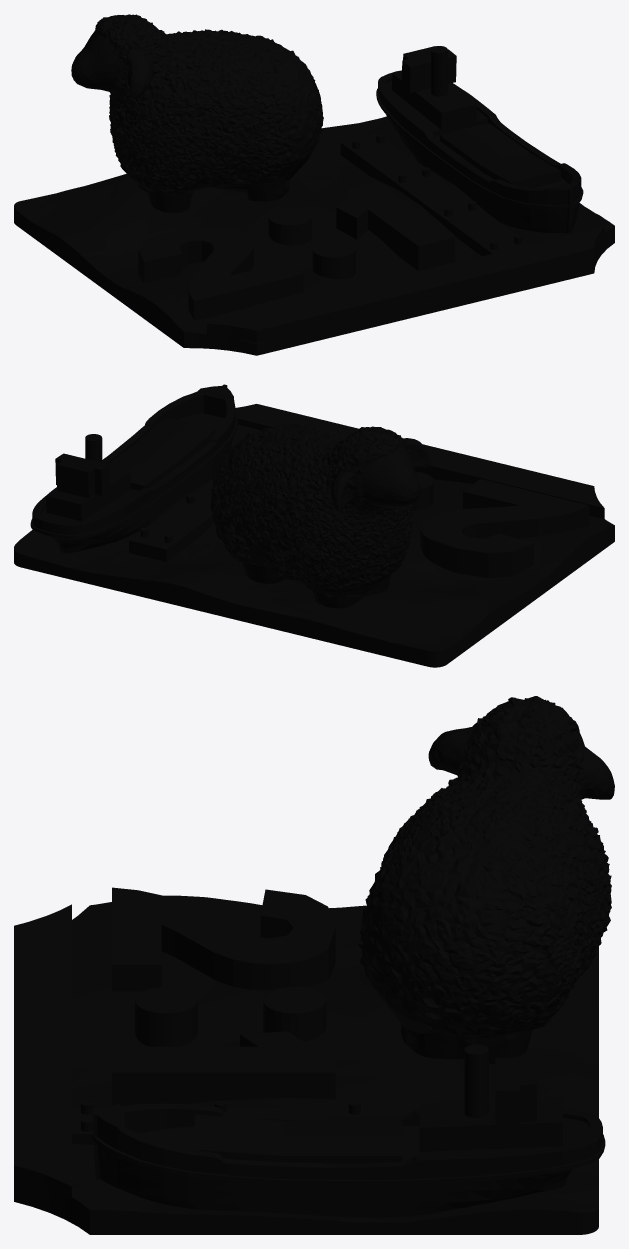
The model's file is SheepPort.fbx.
The picture shows the model from 3 angles, top to bottom: view 1: azimuth 30°, elevation 25°; view 2: azimuth 150°, elevation 25°; view 3: azimuth 270°, elevation 25°; orthographic projection. The views are drawn at different scales.
Parts seen in each view (by area): view 1: node_id3; view 2: node_id3; view 3: node_id3.
Boxes of the visible parts, x1,y1,x2,y2 form: node_id3: [14, 14, 614, 355]; node_id3: [14, 384, 614, 667]; node_id3: [14, 696, 614, 1234].
Size of the model in its own units: 0.512 by 0.2255 by 0.4249.
Materials: 1 (1 with a texture image).
